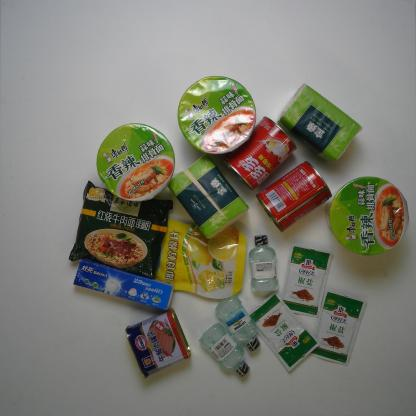Canned Food: (254, 159, 335, 239), (220, 115, 300, 192), (122, 306, 195, 384)
Dried Fruit: (128, 212, 247, 305)
Instant Noodles: (68, 178, 178, 282), (325, 172, 410, 261), (175, 73, 259, 157), (95, 122, 177, 206)
Personal Hygiene: (70, 256, 178, 313), (197, 320, 254, 381), (211, 292, 264, 355), (245, 230, 281, 297)
Seasoner: (242, 290, 323, 377), (304, 289, 373, 368), (278, 241, 335, 323)
Tissue: (164, 150, 252, 244), (278, 80, 364, 165)
